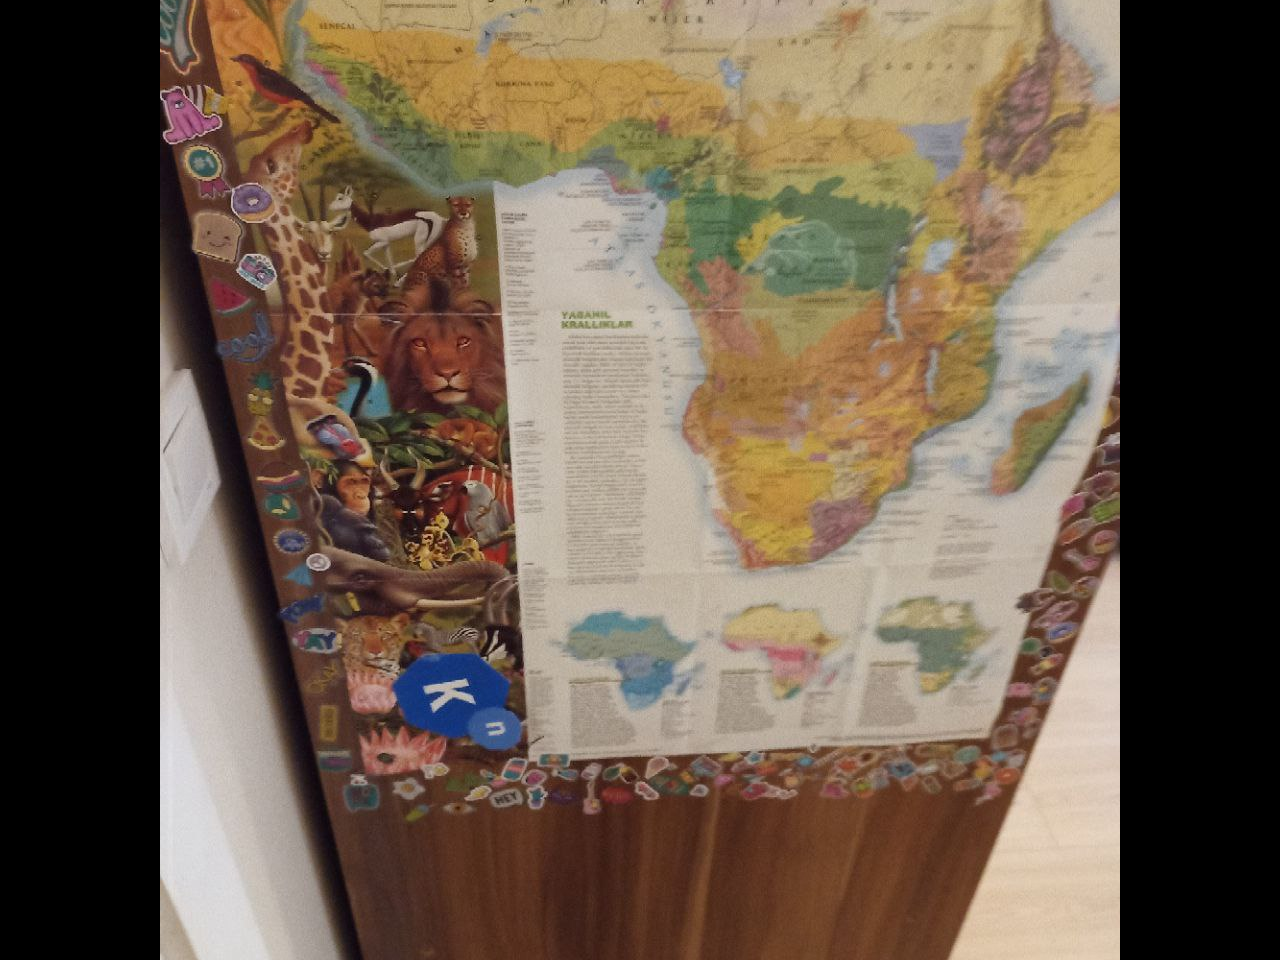knative: (397, 655, 523, 750)
